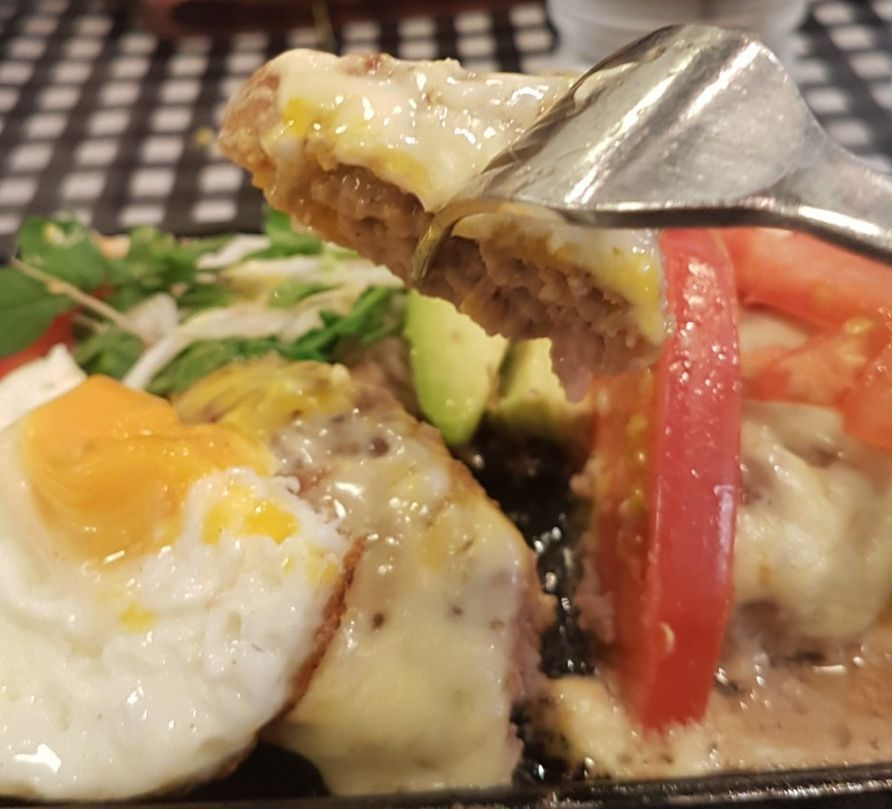fried egg: (1, 386, 296, 762)
slice of bread: (260, 102, 617, 364)
